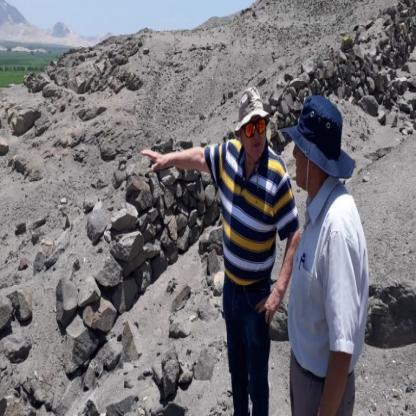person: (153, 59, 295, 415), (290, 73, 375, 412)
